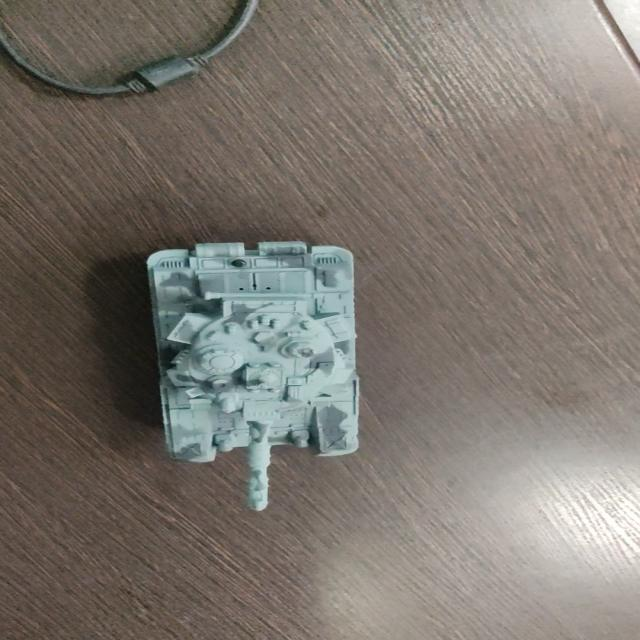tank: (131, 226, 379, 518)
